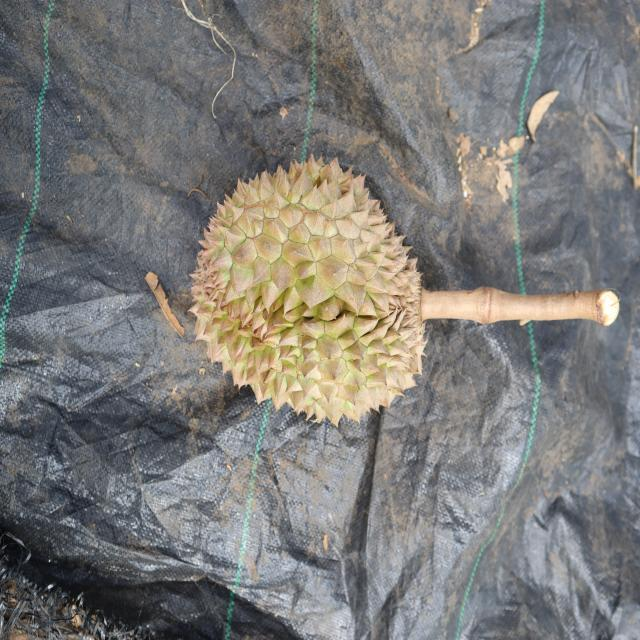mature: (188, 154, 430, 428)
